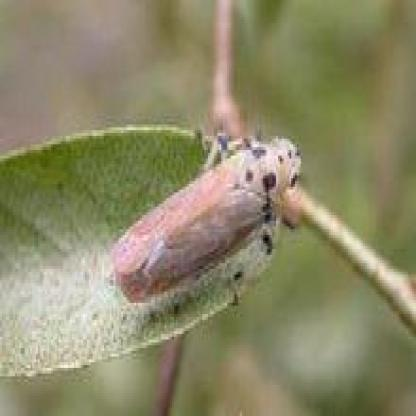Green-Leafhopper: (112, 121, 303, 317)
